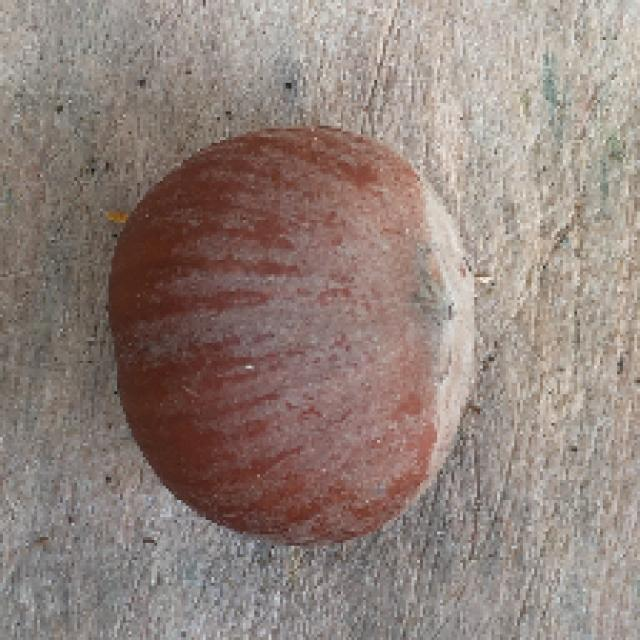qualityHazelnut: (103, 126, 481, 552)
